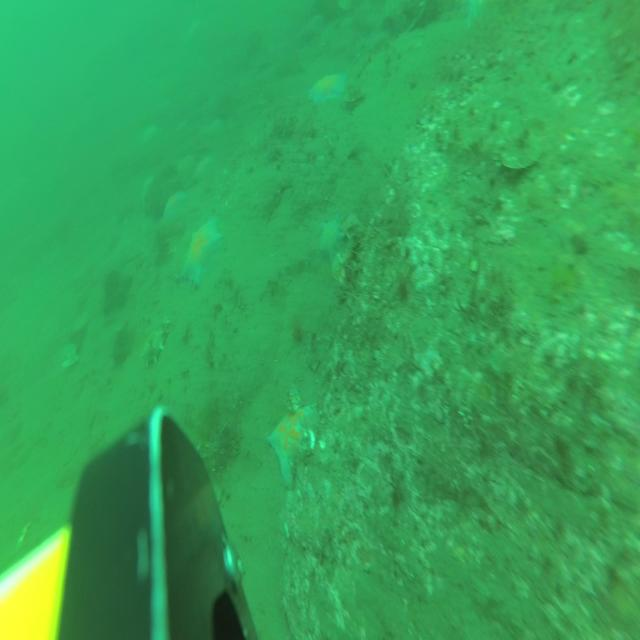holothurian: (142, 322, 169, 371)
scallop: (59, 344, 78, 369), (72, 309, 90, 335), (332, 252, 346, 284)
starfish: (269, 404, 322, 491), (182, 213, 224, 288), (308, 70, 348, 106), (321, 216, 344, 264), (465, 0, 497, 32), (162, 189, 185, 226), (196, 151, 214, 184)
